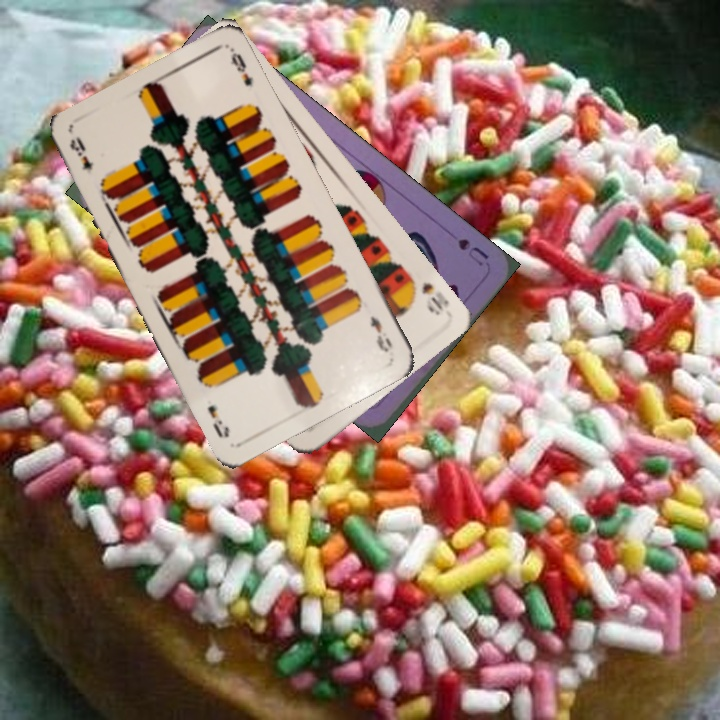E9: (366, 311, 395, 355), (65, 132, 96, 173)
S10: (404, 270, 452, 318)
SU: (453, 234, 491, 269)
